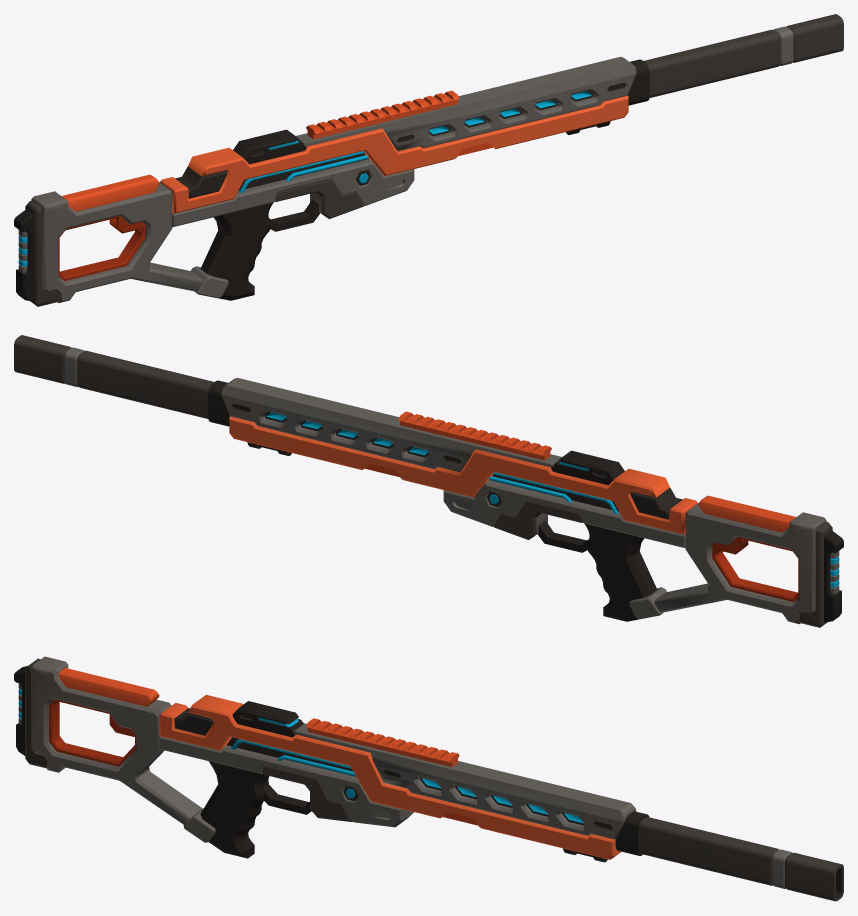
3 views of the same model, one above another, from view 1: azimuth 30°, elevation 25°; view 2: azimuth 150°, elevation 25°; view 3: azimuth 330°, elevation 25° (orthographic).
Parts seen in each view (by area): view 1: SR3_Base; view 2: SR3_Base; view 3: SR3_Base.
Part boxes in pixels (bbox=[...]): SR3_Base: bbox=[14, 14, 843, 306]; SR3_Base: bbox=[14, 335, 843, 627]; SR3_Base: bbox=[14, 656, 843, 901].
Bounding box in the file's own units: 1.32 × 0.2299 × 0.0443.
